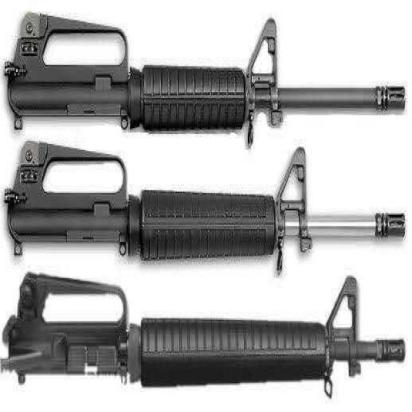Gun: (0, 19, 411, 167), (0, 275, 403, 411), (0, 158, 412, 273)
